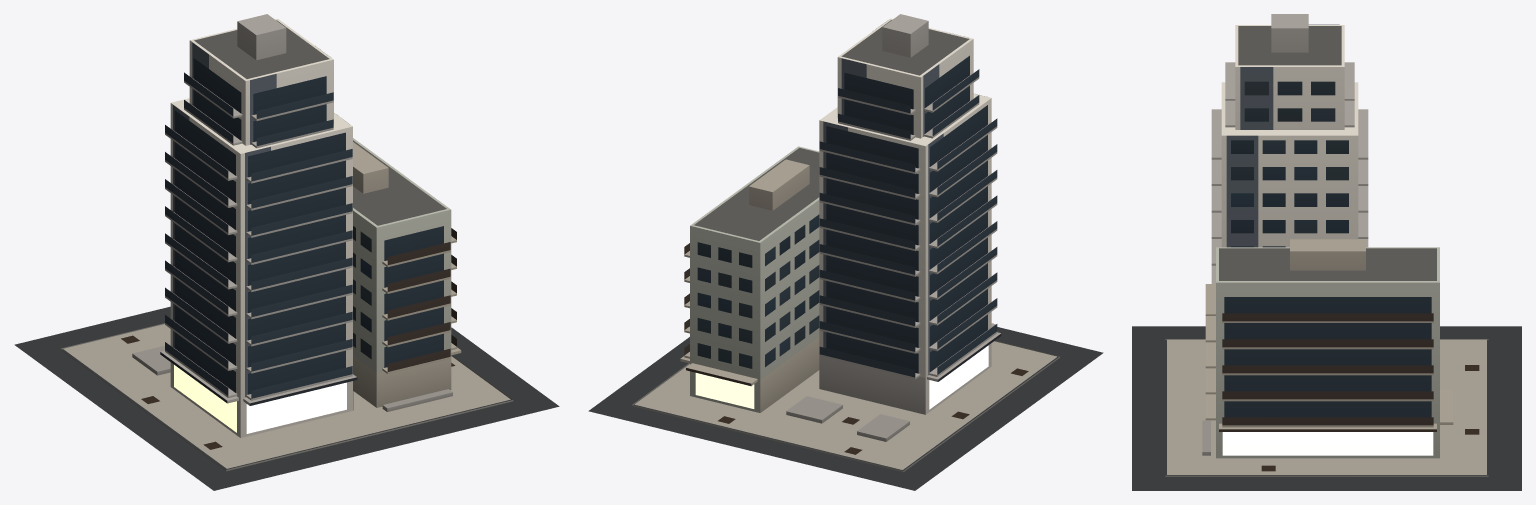
Rendered from modulo_B_lod1.glb.
3 renders of one model, left to right at view 1: azimuth 30°, elevation 25°; view 2: azimuth 150°, elevation 25°; view 3: azimuth 270°, elevation 25°, orthographic. The views are drawn at different scales.
Visible parts, largest first — view 1: modulo_B_lod1; view 2: modulo_B_lod1; view 3: modulo_B_lod1.
Boxes of the visible parts, x1,y1,x2,y2 form: modulo_B_lod1: (14,14,559,490); modulo_B_lod1: (588,14,1103,490); modulo_B_lod1: (1132,14,1521,490).
Bounding box in the file's own units: 40 × 41.51 × 40.
